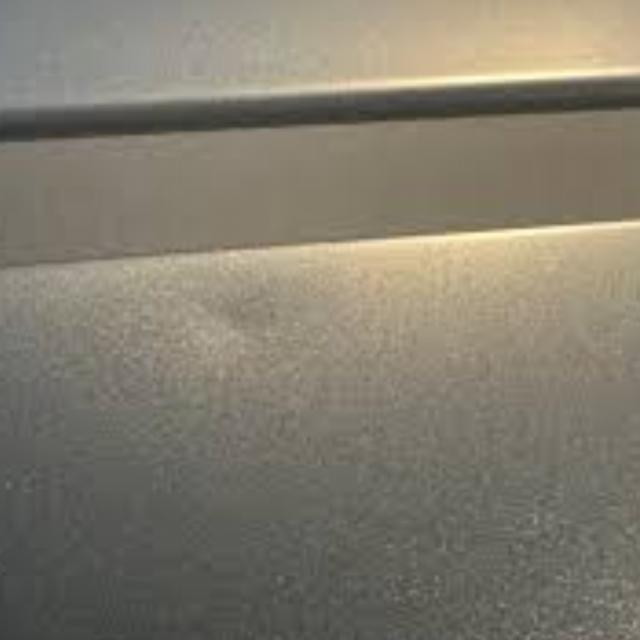dents: (151, 280, 377, 370)
